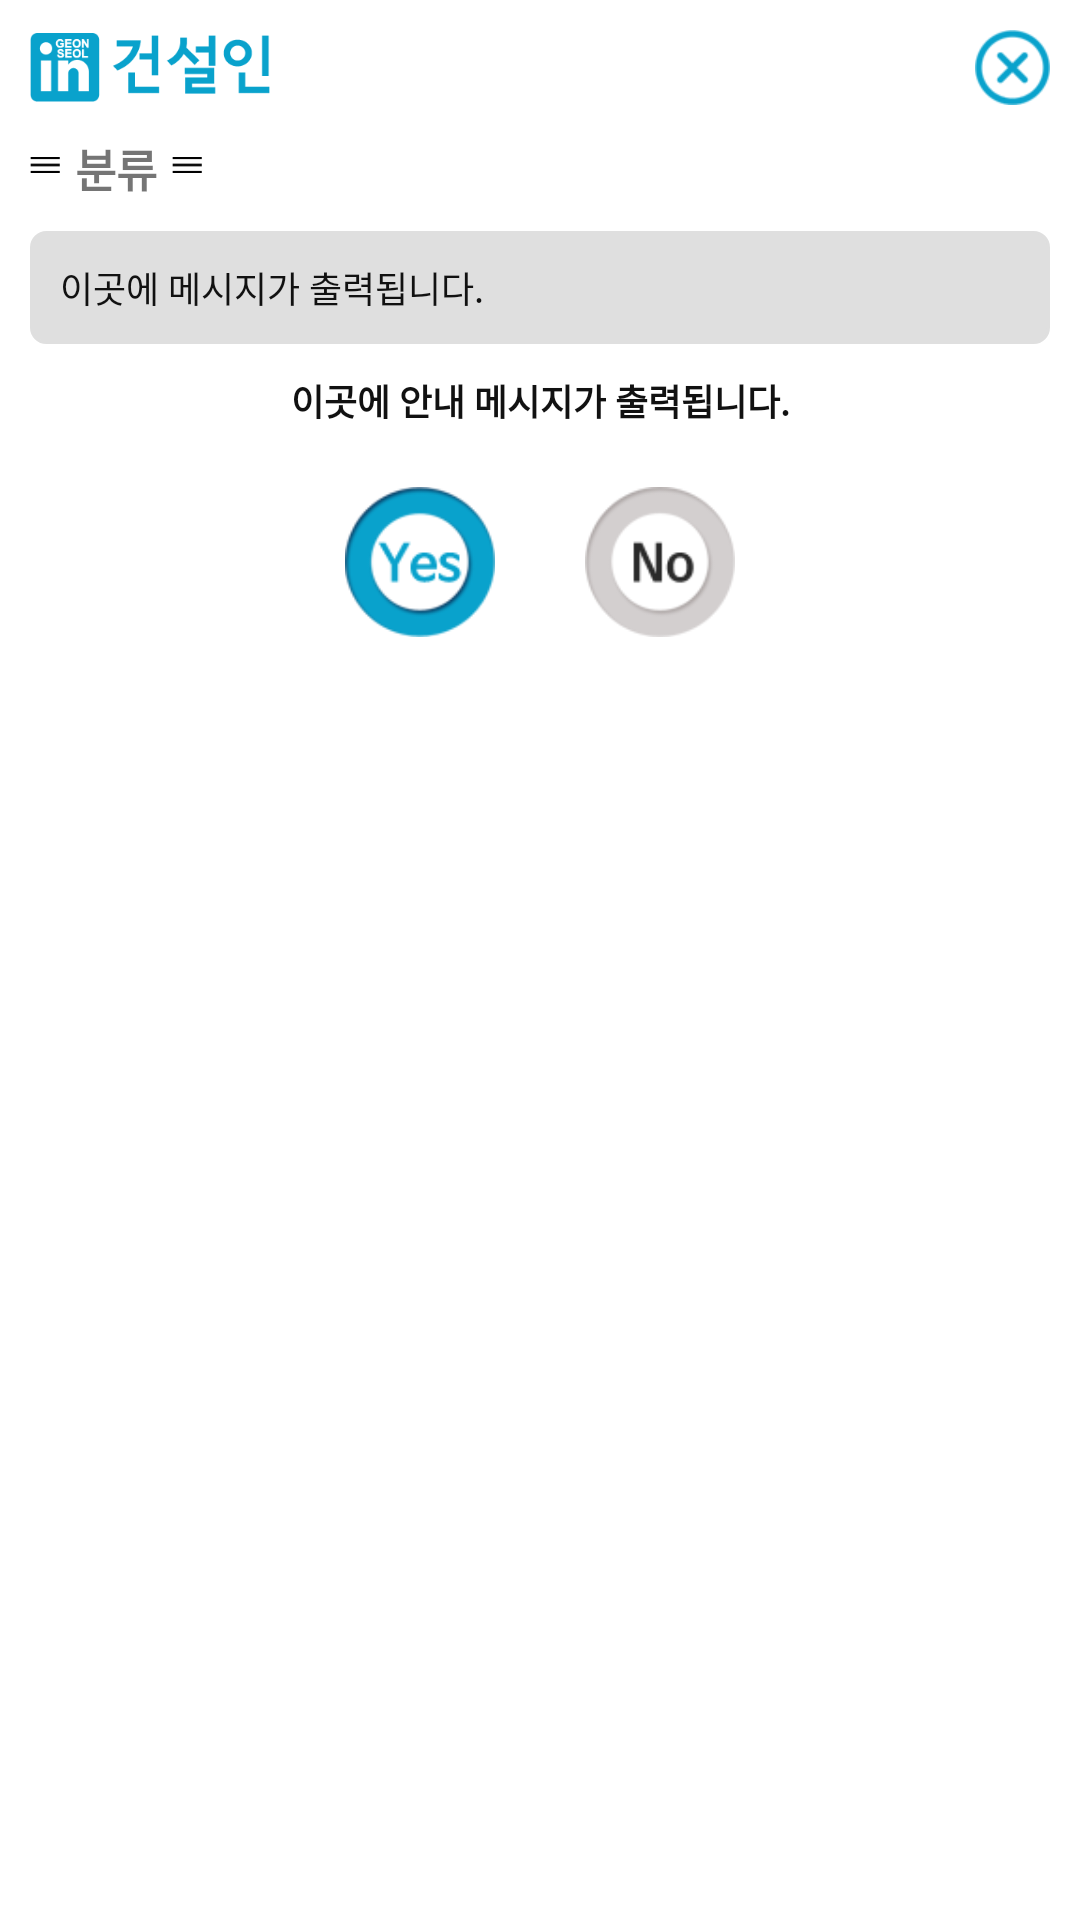

Icons on this 1080*1920 Android screen, each with the point to tap as point (x, y):
close: point (1012, 67)
noti no: point (660, 562)
noti yes: point (420, 562)
